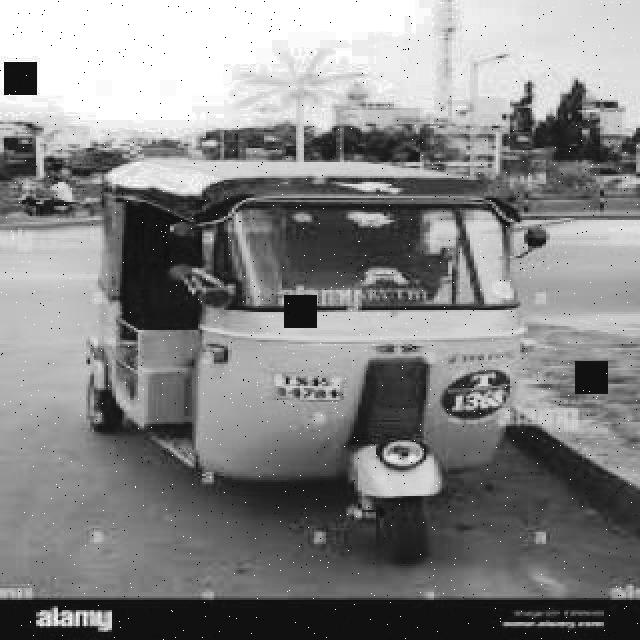Auto-Rickshaw: (74, 146, 550, 560)
